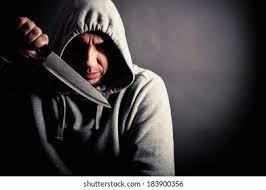Knife: (0, 0, 175, 175), (42, 48, 112, 110), (10, 16, 48, 57)
